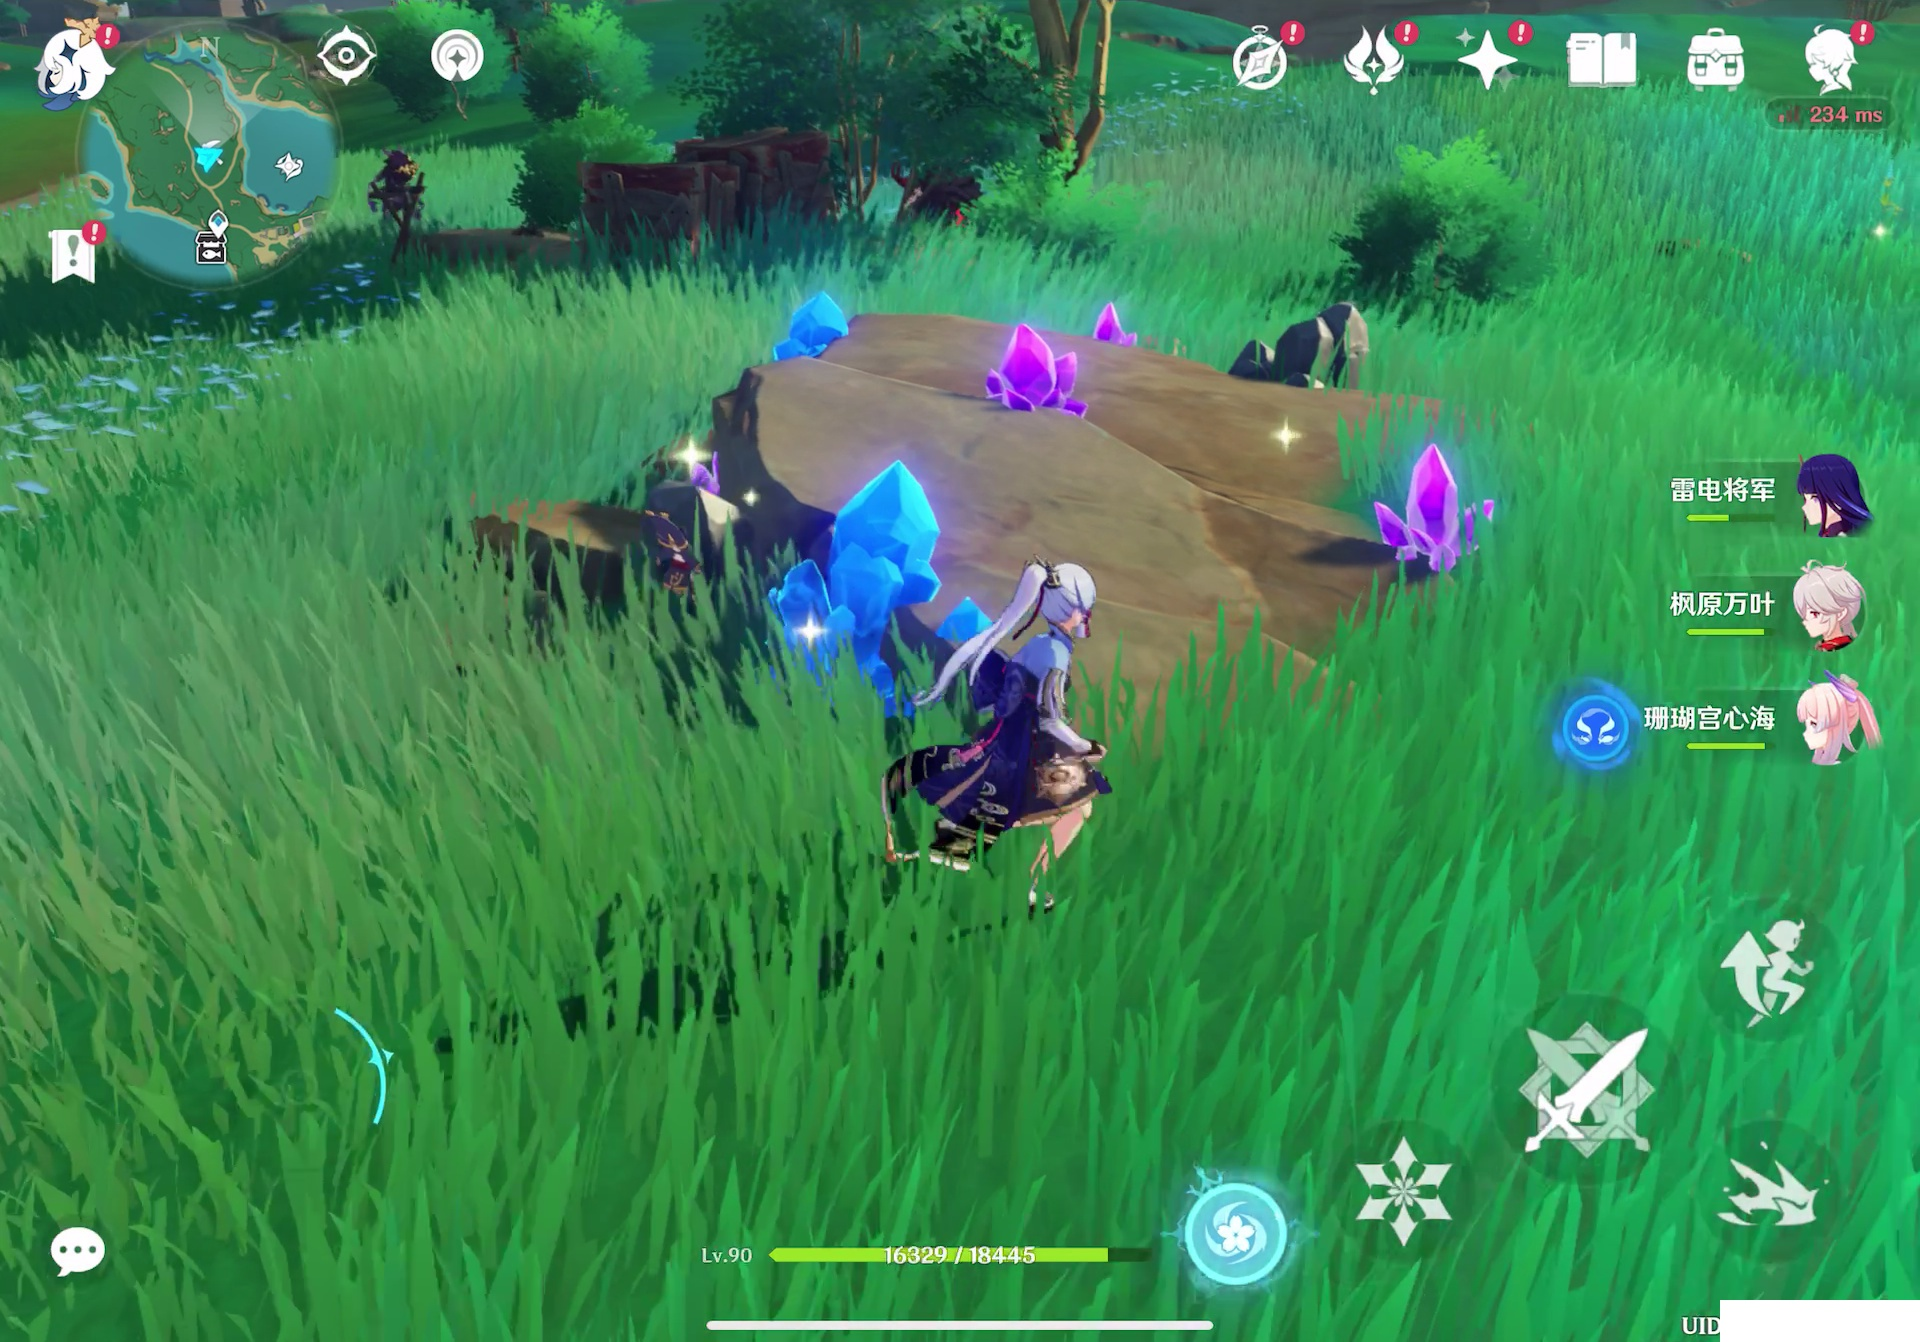白铁矿石: (1242, 286, 1402, 391), (635, 478, 751, 591)
神里绫龟: (942, 543, 1153, 923)
紫矿石: (991, 286, 1150, 436), (1350, 445, 1514, 579)
蓝矿石: (778, 459, 991, 691), (763, 290, 867, 363)
